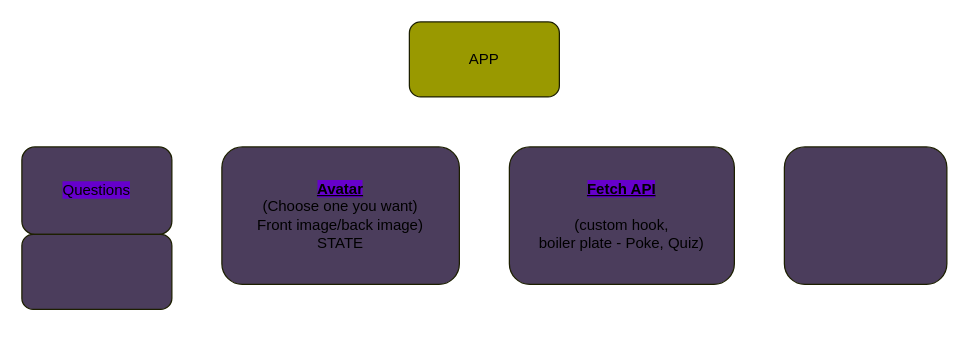
This 969x341 diagram has some shape labels left out. The shapes that lost their labels are listed below. From the top down, each one's box as (x1, y1, x2, y2) in pixels, then its label:
(783, 146, 947, 284): Level Keep track of score? Stars??
(21, 233, 172, 309): Options / Mult Choice
